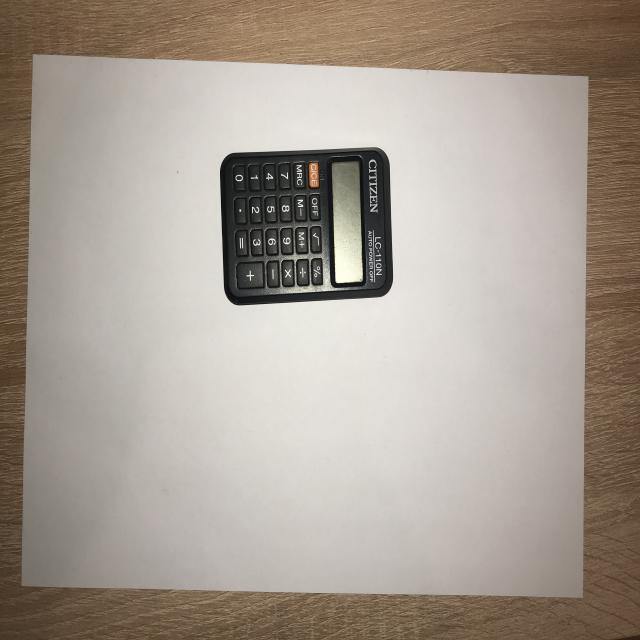calculator: (210, 134, 402, 312)
